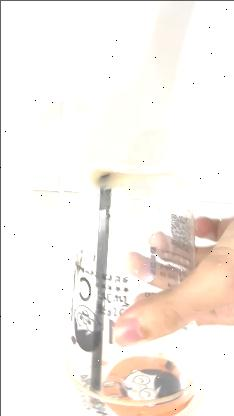Others: (58, 166, 204, 416)
